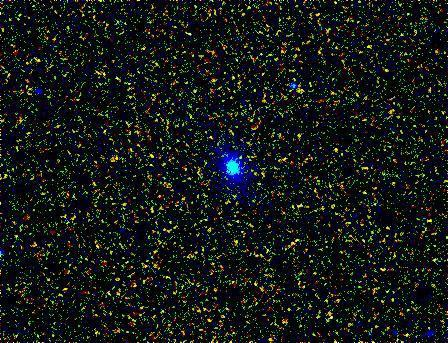star: (289, 76, 319, 106)
